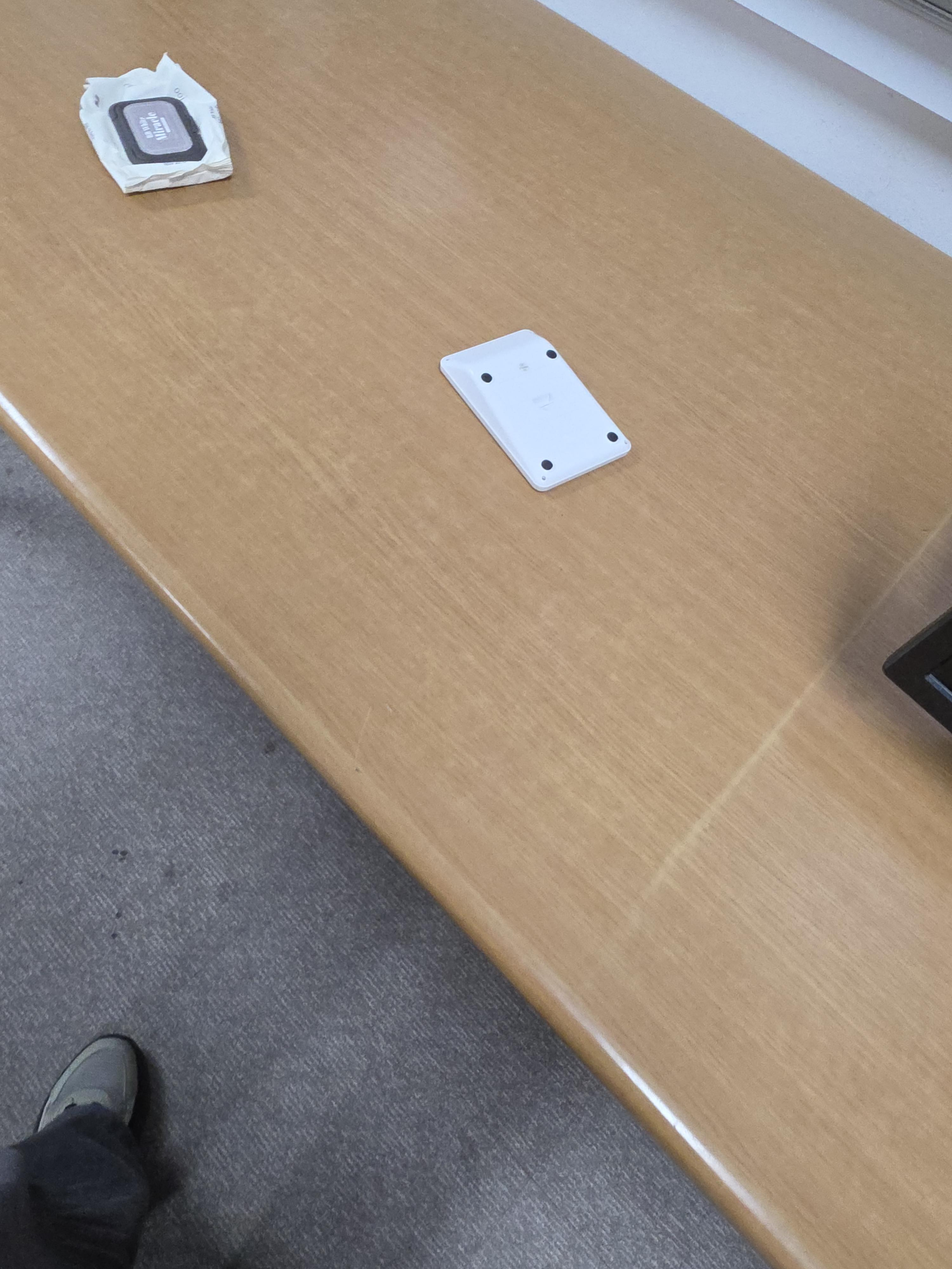calculator: (439, 329, 632, 493)
tissue: (79, 52, 234, 194)
